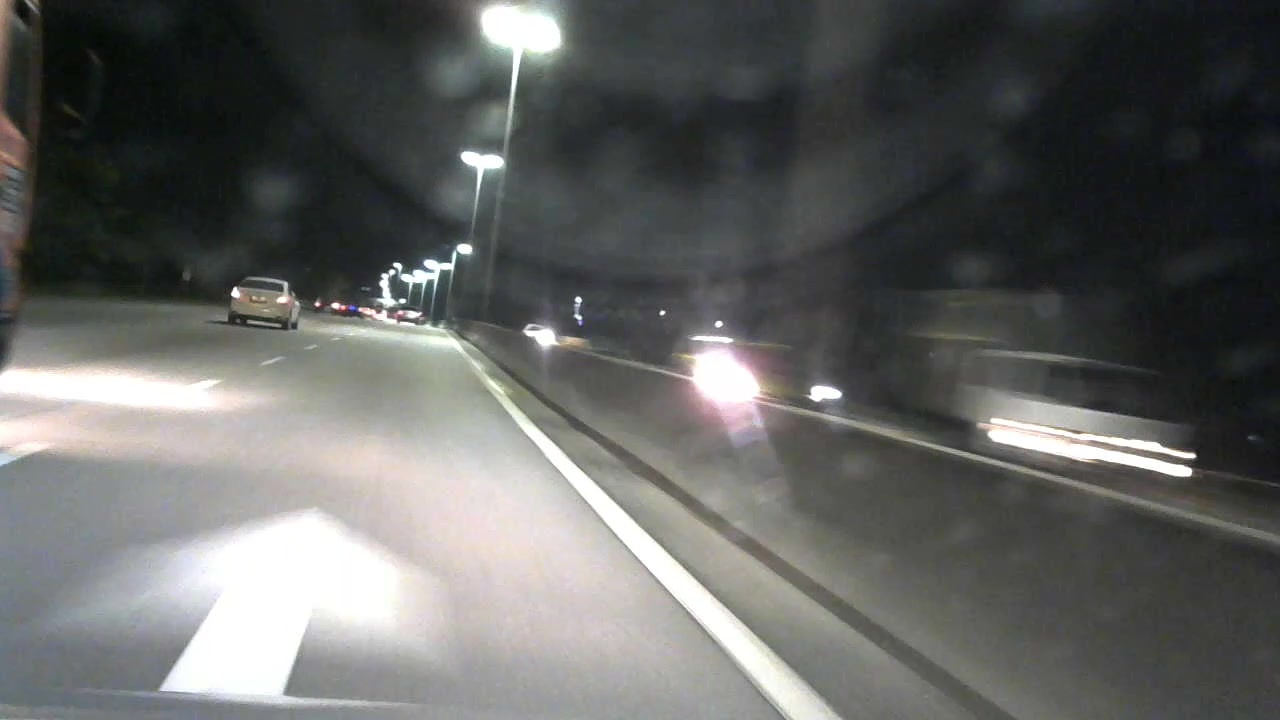Car: (220, 269, 310, 334), (390, 301, 427, 327)
